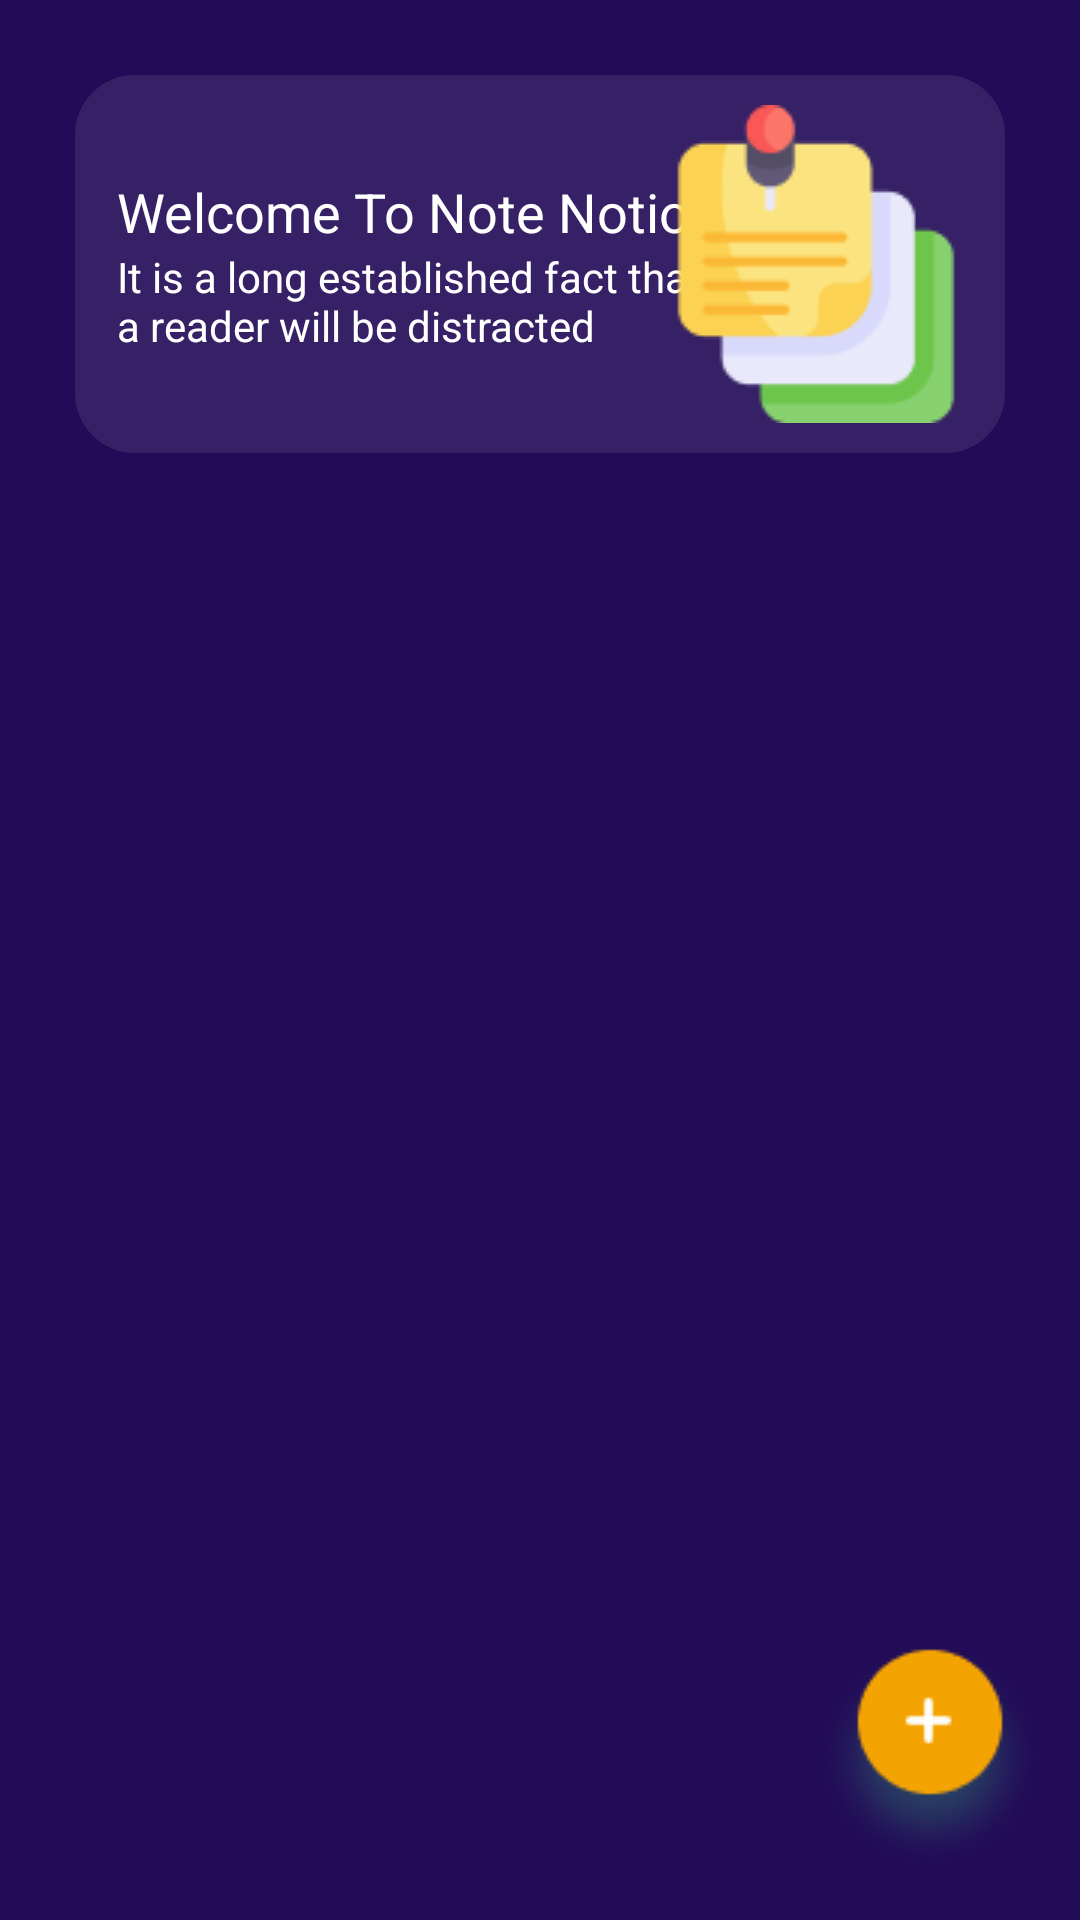

Icon bounding boxes for this 1080 × 1920 phone screenshot, format (x1, y1, x2, y2):
add button 2: (857, 1649, 1003, 1827)
illustrator picture of note: (661, 105, 955, 423)
